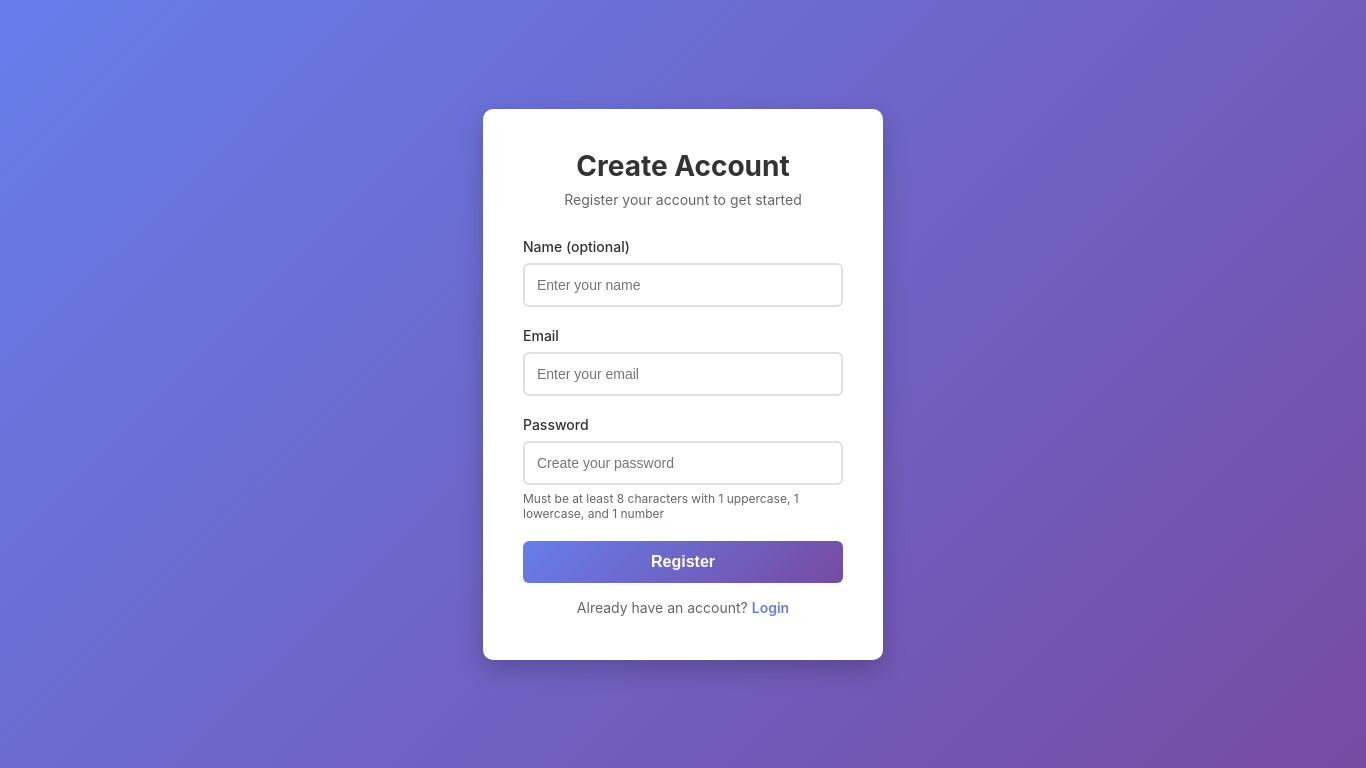
Scenario: Register page › shows fallback error when register result has no error message
Type "user@example.com" into the field labelled "Email" at (683, 374), box top-left (523, 352), bottom-right (843, 396)
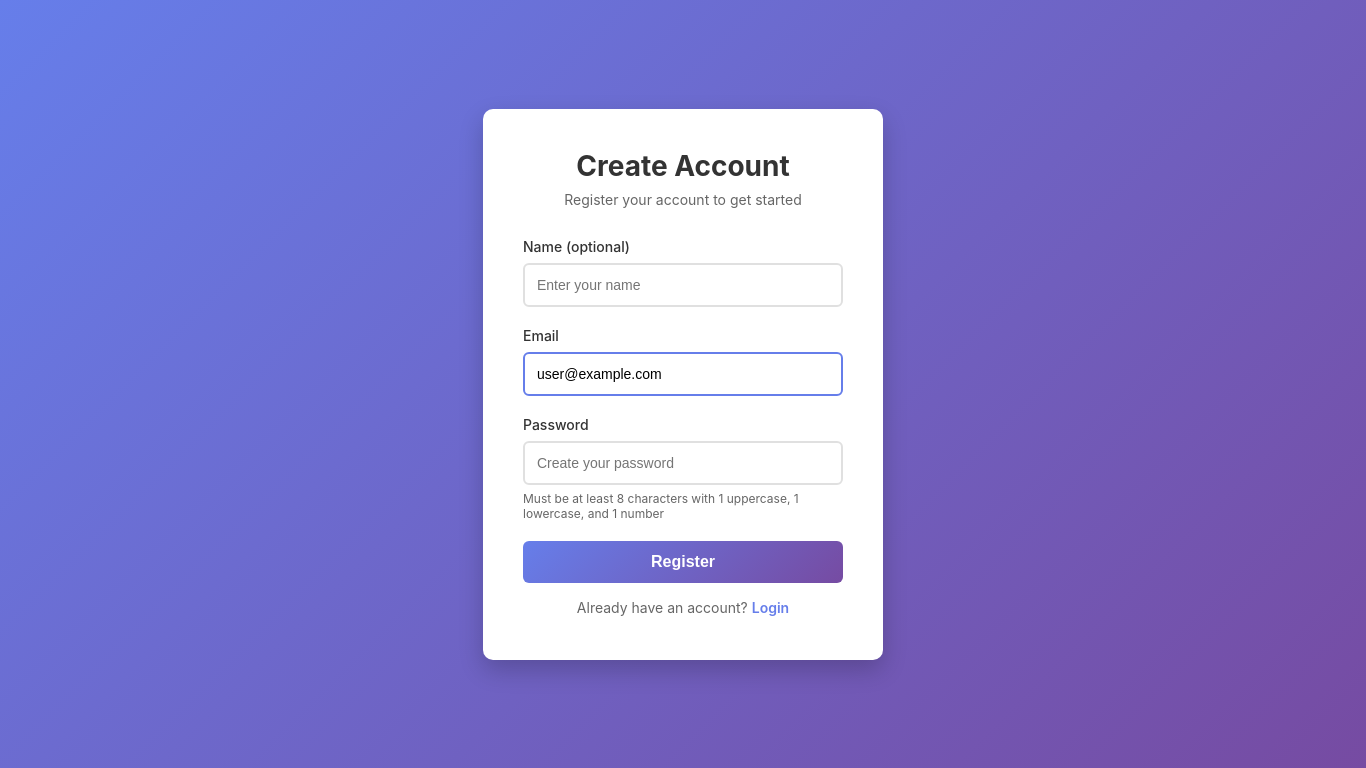
Type "Password1" into the password field labelled "Password" at (683, 462), box top-left (523, 440), bottom-right (843, 484)
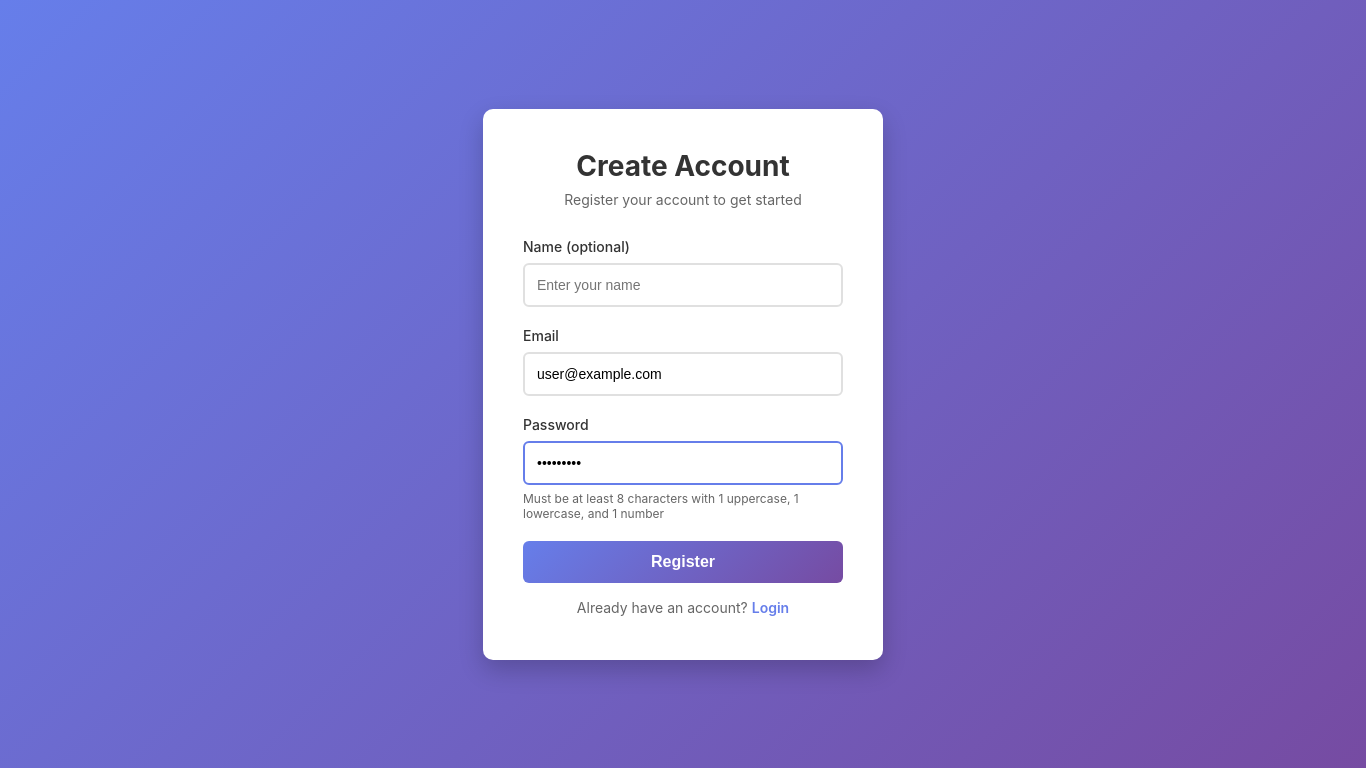
Click the button "Register" at (683, 562), box top-left (523, 540), bottom-right (843, 582)
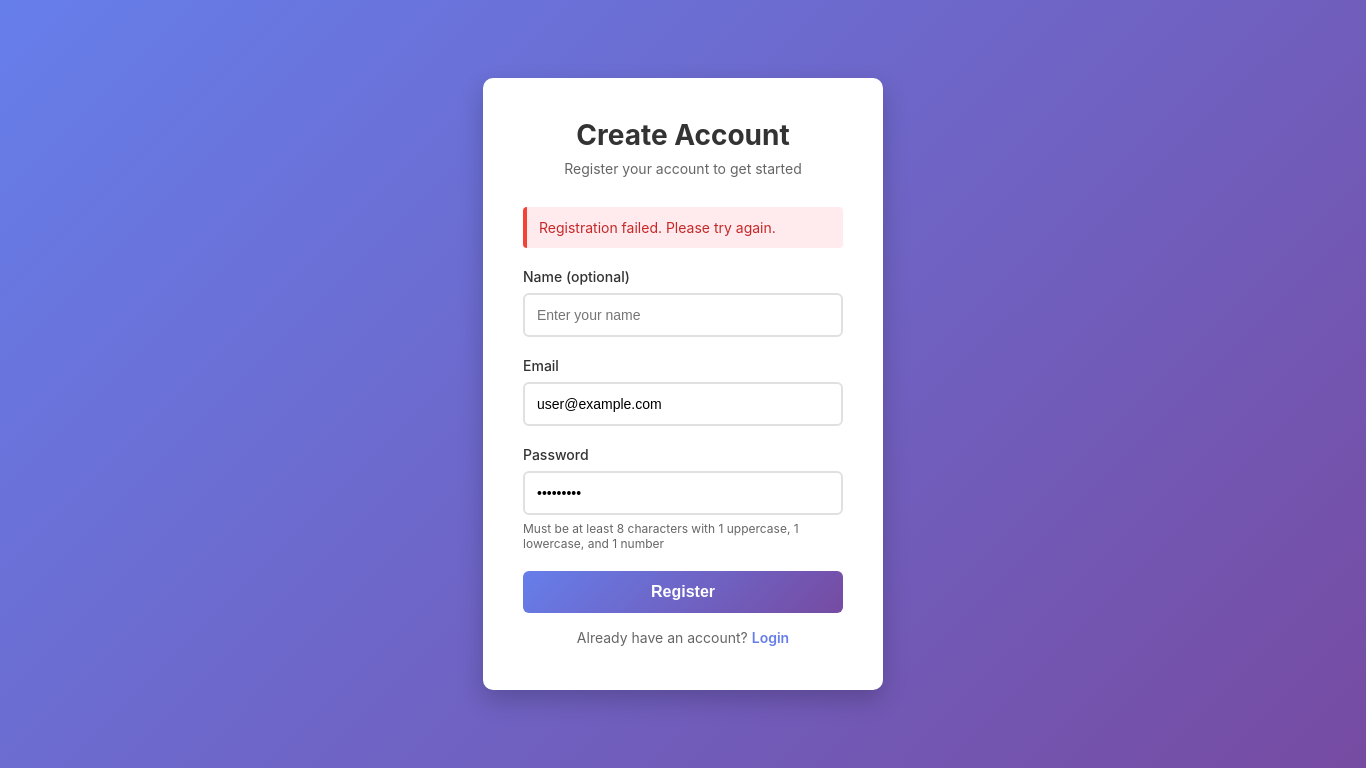
Expected: the text "Registration failed. Please try again." is shown, top-left (523, 207), bottom-right (843, 248)
